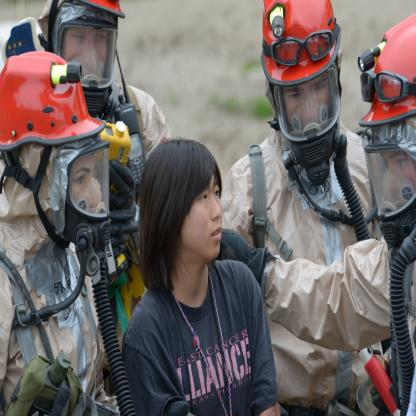Helmet: (0, 48, 107, 249), (260, 6, 357, 171), (356, 13, 416, 252), (44, 0, 122, 119)
